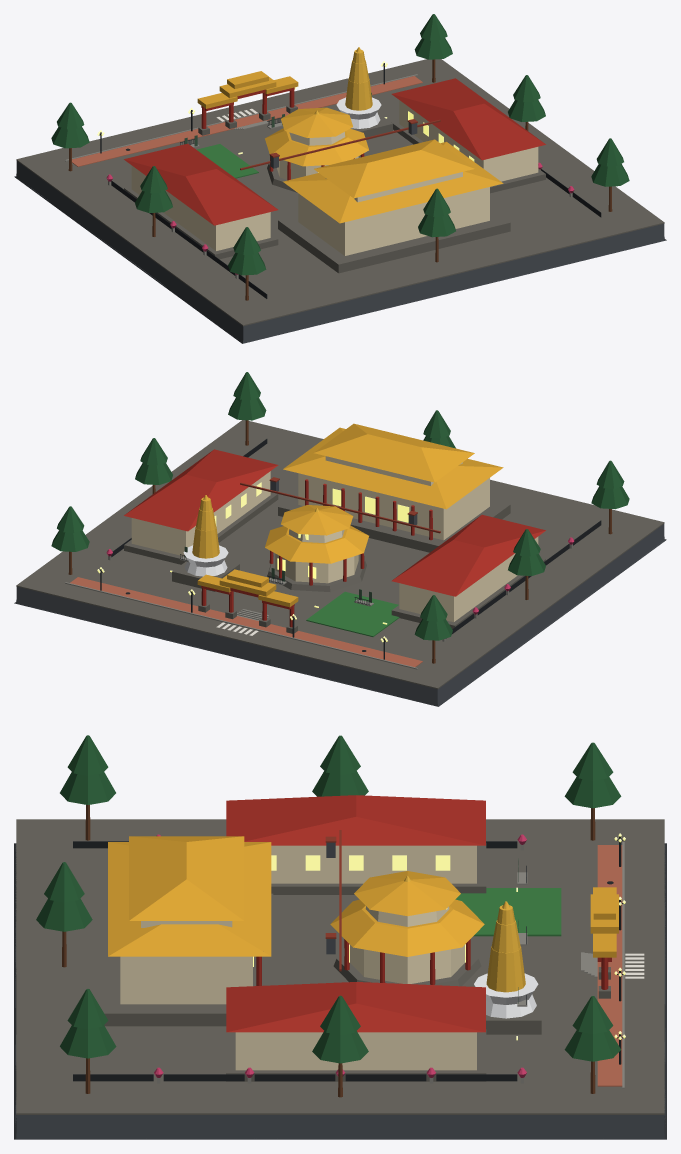
File: lm_40_thien_vuong_co_sat.glb
The picture shows the model from 3 angles, top to bottom: view 1: azimuth 30°, elevation 25°; view 2: azimuth 150°, elevation 25°; view 3: azimuth 270°, elevation 25°; orthographic projection. The views are drawn at different scales.
Visible parts, largest first — view 1: Foundation_Plinth_Trim, Monastery_Cream_Walls, Foundation_Skirt, Monastery_Pine_Canopies, Monastery_Stone_Plinths_And_Steps, Monastery_Side_Hall_Roof_East_Monastic, Monastery_Golden_Tiled_Roofs, Monastery_Side_Hall_Roof_West_BanXoay, TuBiBaoDien_Upper_Golden_Roof, TuBiBaoDien_Lower_Golden_Roof, Phase2_Interlocking_Brick_Sidewalk, Phase2_WroughtIron_Balconies_Railings_Manholes (+7 smaller); view 2: Foundation_Plinth_Trim, Monastery_Cream_Walls, Foundation_Skirt, Monastery_Pine_Canopies, Monastery_Stone_Plinths_And_Steps, Monastery_Golden_Tiled_Roofs, Monastery_Side_Hall_Roof_West_BanXoay, Monastery_Side_Hall_Roof_East_Monastic, TuBiBaoDien_Lower_Golden_Roof, TuBiBaoDien_Upper_Golden_Roof, Phase2_Interlocking_Brick_Sidewalk, Monastery_Garden_Lawns (+7 smaller); view 3: Foundation_Plinth_Trim, Monastery_Cream_Walls, Foundation_Skirt, Monastery_Pine_Canopies, Monastery_Side_Hall_Roof_West_BanXoay, Monastery_Side_Hall_Roof_East_Monastic, Monastery_Stone_Plinths_And_Steps, Monastery_Golden_Tiled_Roofs, TuBiBaoDien_Upper_Golden_Roof, TuBiBaoDien_Lower_Golden_Roof, Phase2_WroughtIron_Balconies_Railings_Manholes, Monastery_Garden_Lawns (+7 smaller).
Boxes of the visible parts, <box> form: Foundation_Plinth_Trim: <box>16,59,664,326</box>; Monastery_Cream_Walls: <box>131,100,538,255</box>; Foundation_Skirt: <box>14,161,666,343</box>; Monastery_Pine_Canopies: <box>51,14,629,275</box>; Monastery_Stone_Plinths_And_Steps: <box>124,105,545,273</box>; Monastery_Side_Hall_Roof_East_Monastic: <box>391,78,545,160</box>; Monastery_Golden_Tiled_Roofs: <box>197,71,368,166</box>; Monastery_Side_Hall_Roof_West_BanXoay: <box>124,143,278,225</box>; TuBiBaoDien_Upper_Golden_Roof: <box>314,139,474,198</box>; TuBiBaoDien_Lower_Golden_Roof: <box>283,141,503,223</box>; Phase2_Interlocking_Brick_Sidewalk: <box>72,76,422,166</box>; Phase2_WroughtIron_Balconies_Railings_Manholes: <box>99,63,601,298</box>; Foundation_Plinth_Trim: <box>16,420,664,689</box>; Monastery_Cream_Walls: <box>131,456,538,622</box>; Foundation_Skirt: <box>14,524,666,706</box>; Monastery_Pine_Canopies: <box>51,372,629,640</box>; Monastery_Stone_Plinths_And_Steps: <box>124,492,545,633</box>; Monastery_Golden_Tiled_Roofs: <box>197,505,368,607</box>; Monastery_Side_Hall_Roof_West_BanXoay: <box>391,514,545,596</box>; Monastery_Side_Hall_Roof_East_Monastic: <box>124,449,278,531</box>; TuBiBaoDien_Lower_Golden_Roof: <box>283,427,503,509</box>; TuBiBaoDien_Upper_Golden_Roof: <box>314,423,474,482</box>; Phase2_Interlocking_Brick_Sidewalk: <box>70,577,422,667</box>; Monastery_Garden_Lawns: <box>306,591,399,636</box>; Foundation_Plinth_Trim: <box>16,819,664,1114</box>; Monastery_Cream_Walls: <box>120,845,476,1070</box>; Foundation_Skirt: <box>14,843,666,1139</box>; Monastery_Pine_Canopies: <box>36,735,621,1063</box>; Monastery_Side_Hall_Roof_West_BanXoay: <box>226,795,485,845</box>; Monastery_Side_Hall_Roof_East_Monastic: <box>226,982,485,1032</box>; Monastery_Stone_Plinths_And_Steps: <box>100,843,610,1081</box>; Monastery_Golden_Tiled_Roofs: <box>330,871,618,957</box>; TuBiBaoDien_Upper_Golden_Roof: <box>129,836,244,920</box>; TuBiBaoDien_Lower_Golden_Roof: <box>108,842,271,956</box>; Phase2_WroughtIron_Balconies_Railings_Manholes: <box>73,836,623,1081</box>; Monastery_Garden_Lawns: <box>455,888,561,936</box>.
Size of the model in its own units: 88.82 by 20 by 82.76.
